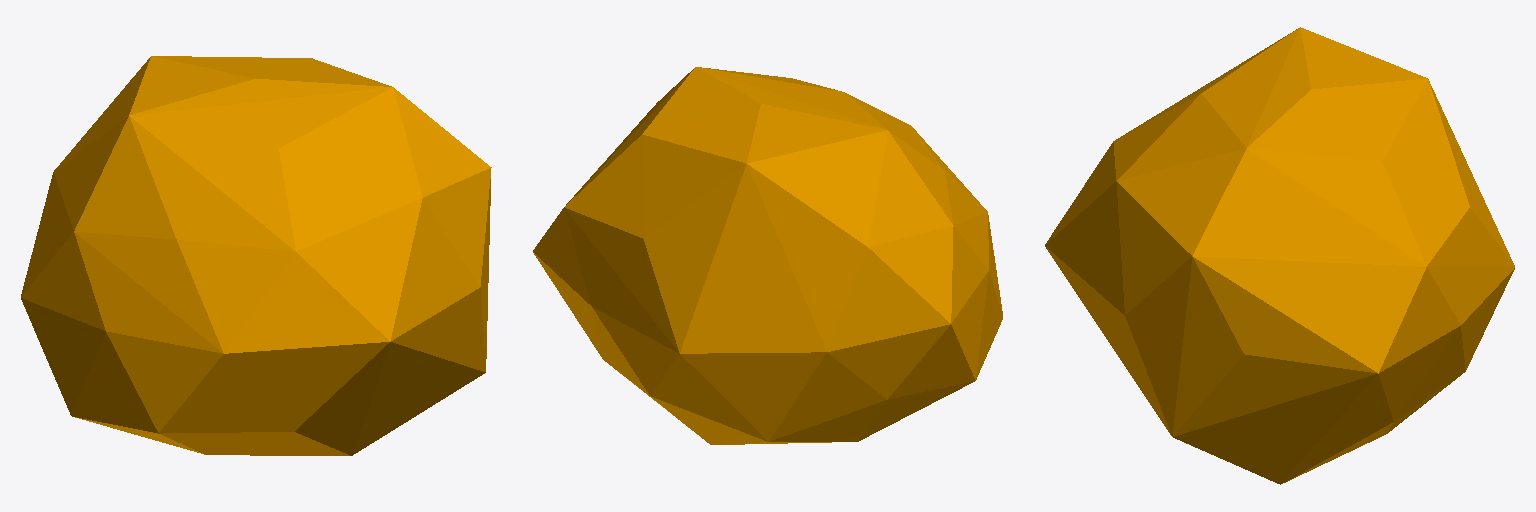
The robot description file, URDF, robot "ic925":
<?xml version="1.0"?>
<robot name="ic925">
  <link name="link">
    <contact>
      <lateral_friction value="0.6"/>
    </contact>
    <inertial>
      <mass value = "0.2887069744565795"/>
      <inertia ixx="0.00010461402406816693" ixy="6.4767139055418664e-21" ixz="-2.4929238428878126e-20" iyy="0.00011747376188329876" iyz="-3.666064474835019e-22" izz="0.00012818226262744422" />
    </inertial>
    <visual name="visual">
      <geometry>
        <mesh filename="ic925.obj"/>
      </geometry>
    </visual>
    <collision name="collision">
      <geometry>
        <mesh filename="ic925.obj"/>
      </geometry>
    </collision>
  </link>
</robot>

--- What the picture shows (computed from the rendered views, not written in the file) ---
Views: 3 orthographic renders of the robot side by side, from view 1: azimuth 30°, elevation 25°; view 2: azimuth 150°, elevation 25°; view 3: azimuth 270°, elevation 25°.
Model ic925 with 1 links and 0 joints (none), rooted at link, posed all joints at 0.
Visible links, largest first — view 1: link; view 2: link; view 3: link.
Boxes of the visible links, x1,y1,x2,y2 form: link: [21, 56, 491, 455]; link: [533, 67, 1002, 444]; link: [1045, 27, 1514, 484].
Bounding box of the posed robot: 0.0728 × 0.0702 × 0.0563 m (x, y, z).
Meshes: 1 distinct files referenced, 1 mesh visuals loaded (1 OBJ).
